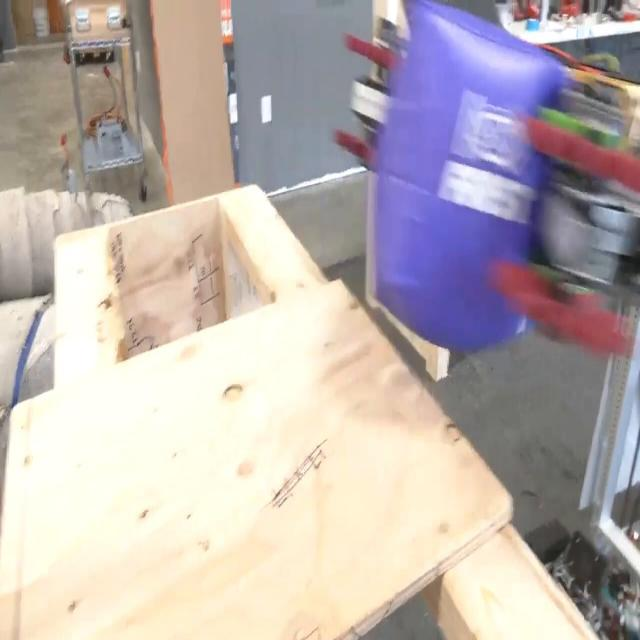frc_cube: (368, 17, 562, 323)
